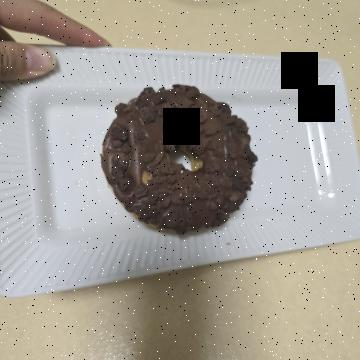doughnut: (60, 90, 241, 266)
